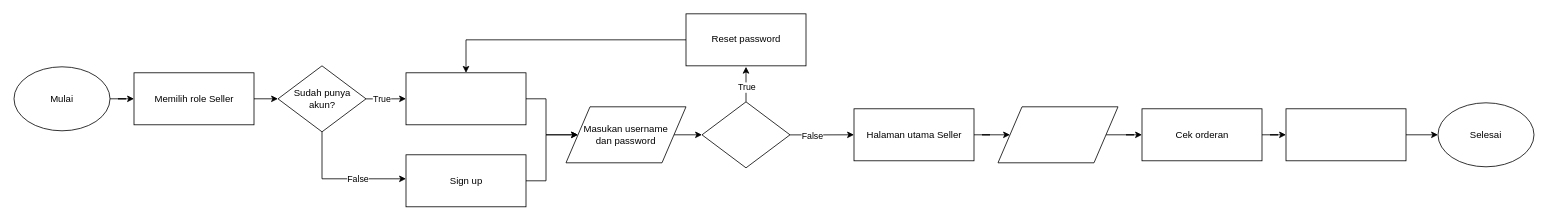
This 1548x222 diagram has some shape labels left out. The centre of each missing label's shape, as x and y in pixels:
"Konfirmasi orderan" goes at (1345,134).
"Login" goes at (465,98).
"Memasukan produk yang akan dijual" goes at (1057,134).
"Password salah?" goes at (745,134).
